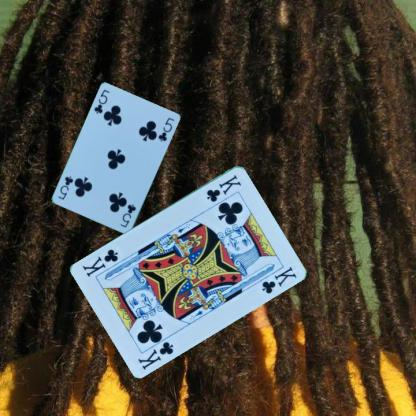5c: (91, 87, 111, 116), (118, 202, 137, 229)
Kc: (135, 338, 176, 371), (204, 172, 243, 204)
